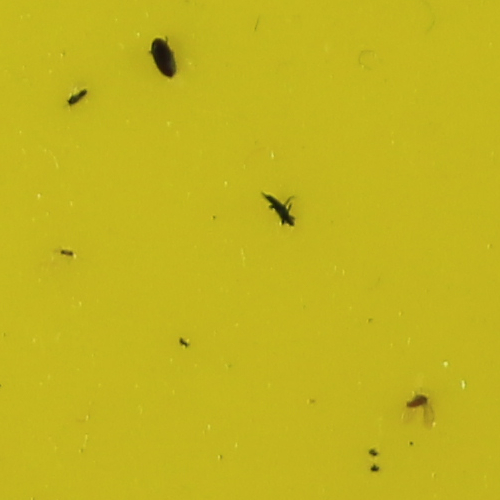psylla: (406, 388, 432, 408)
